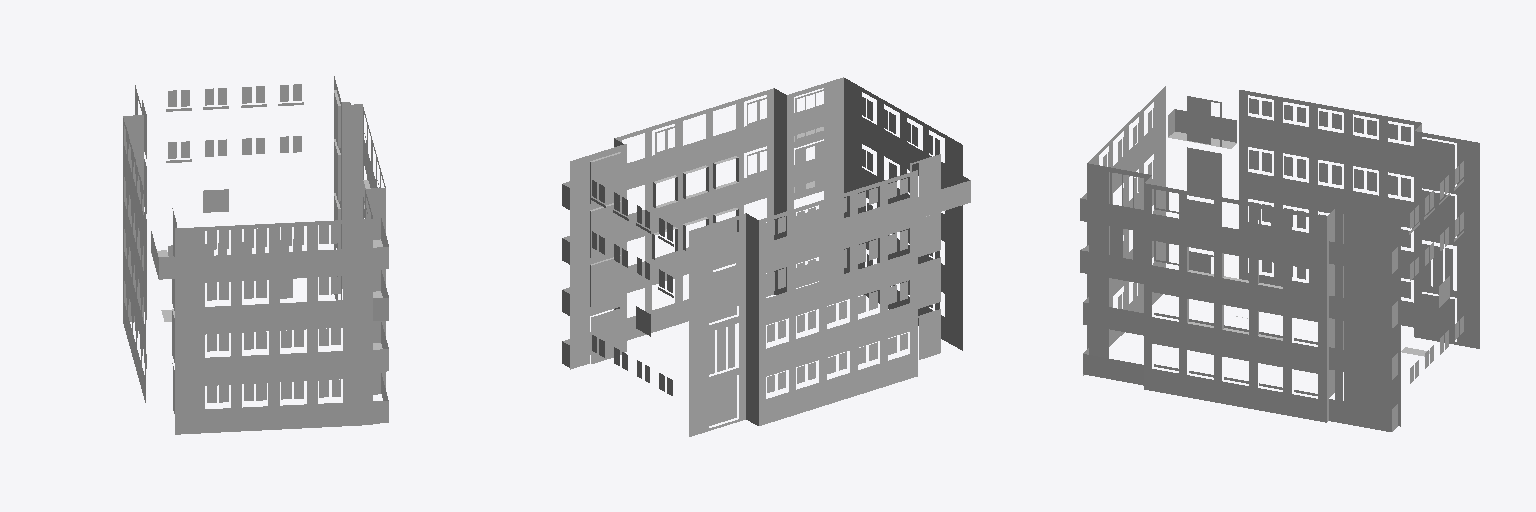
The picture shows the model from 3 angles: view 1: azimuth 30°, elevation 25°; view 2: azimuth 150°, elevation 25°; view 3: azimuth 270°, elevation 25°; orthographic projection.
Visible parts, largest first — view 1: SketchUp.1259_ID7590, SketchUp.1257_ID7578, SketchUp.1102_ID6648, SketchUp.1256_ID7572, SketchUp.1258_ID7584, SketchUp.1226_ID7392, SketchUp.1255_ID7566; view 2: SketchUp.1257_ID7578, SketchUp.1260_ID7596, SketchUp.1259_ID7590, SketchUp.1256_ID7572, SketchUp.1258_ID7584, SketchUp.1102_ID6648, SketchUp.1255_ID7566, SketchUp.1262_ID7608; view 3: SketchUp.1260_ID7596, SketchUp.1257_ID7578, SketchUp.1256_ID7572, SketchUp.1102_ID6648, SketchUp.1259_ID7590, SketchUp.1258_ID7584, SketchUp.1122_ID6768, SketchUp.1124_ID6780, SketchUp.1123_ID6774, SketchUp.1121_ID6762, SketchUp.1265_ID7626, SketchUp.1262_ID7608 (+3 smaller).
Boxes of the visible parts, <box> form: SketchUp.1259_ID7590: <box>175,219,372,434</box>; SketchUp.1257_ID7578: <box>123,118,145,402</box>; SketchUp.1102_ID6648: <box>334,76,362,299</box>; SketchUp.1256_ID7572: <box>123,85,143,321</box>; SketchUp.1258_ID7584: <box>365,188,385,394</box>; SketchUp.1226_ID7392: <box>203,189,228,212</box>; SketchUp.1255_ID7566: <box>151,231,174,279</box>; SketchUp.1257_ID7578: <box>759,170,917,425</box>; SketchUp.1260_ID7596: <box>615,88,773,340</box>; SketchUp.1259_ID7590: <box>844,78,962,350</box>; SketchUp.1256_ID7572: <box>689,213,758,436</box>; SketchUp.1258_ID7584: <box>774,77,843,294</box>; SketchUp.1102_ID6648: <box>570,138,626,369</box>; SketchUp.1255_ID7566: <box>918,175,970,218</box>; SketchUp.1262_ID7608: <box>794,104,823,135</box>; SketchUp.1260_ID7596: <box>1144,183,1326,422</box>; SketchUp.1257_ID7578: <box>1239,90,1421,327</box>; SketchUp.1256_ID7572: <box>1414,124,1479,348</box>; SketchUp.1102_ID6648: <box>1327,206,1400,426</box>; SketchUp.1259_ID7590: <box>1088,86,1165,346</box>; SketchUp.1258_ID7584: <box>1087,163,1151,357</box>; SketchUp.1122_ID6768: <box>1329,296,1397,328</box>; SketchUp.1124_ID6780: <box>1329,399,1397,431</box>; SketchUp.1123_ID6774: <box>1329,347,1397,380</box>; SketchUp.1121_ID6762: <box>1329,241,1397,274</box>; SketchUp.1265_ID7626: <box>1080,245,1143,283</box>; SketchUp.1262_ID7608: <box>1080,193,1143,231</box>.
Size of the model in its own units: 718 by 481 by 827.